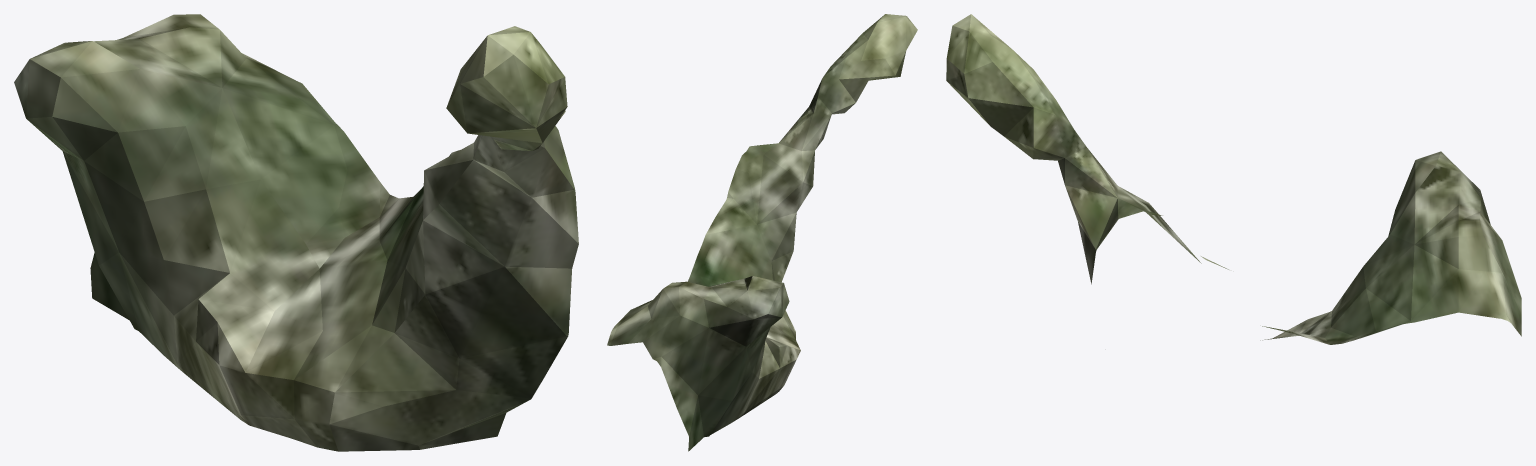
3 renders of one model, left to right at view 1: azimuth 30°, elevation 25°; view 2: azimuth 150°, elevation 25°; view 3: azimuth 270°, elevation 25°, orthographic. The views are drawn at different scales.
Bounding box in the file's own units: 0.7905 × 1.49 × 2.05.
Materials: 1 (1 with a texture image).
